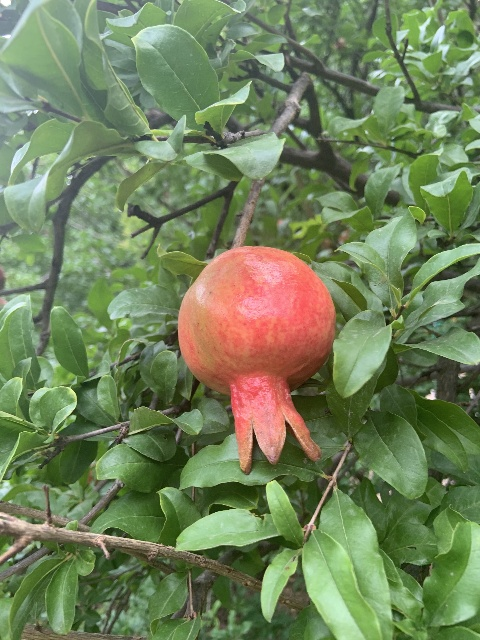ripe: (177, 245, 336, 473)
